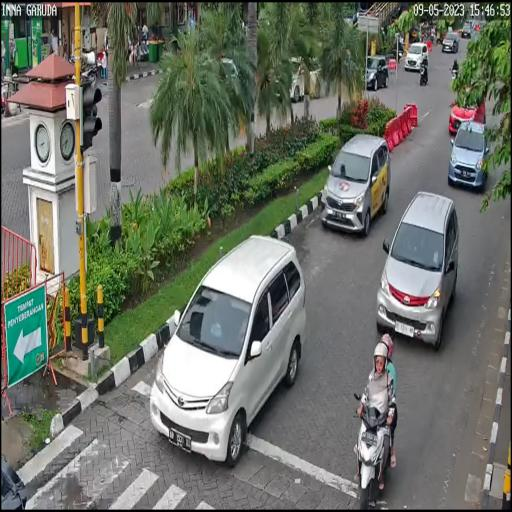mobil: (152, 229, 311, 474), (375, 190, 461, 349), (316, 130, 392, 241), (447, 120, 490, 194)
motor: (350, 382, 398, 508)
